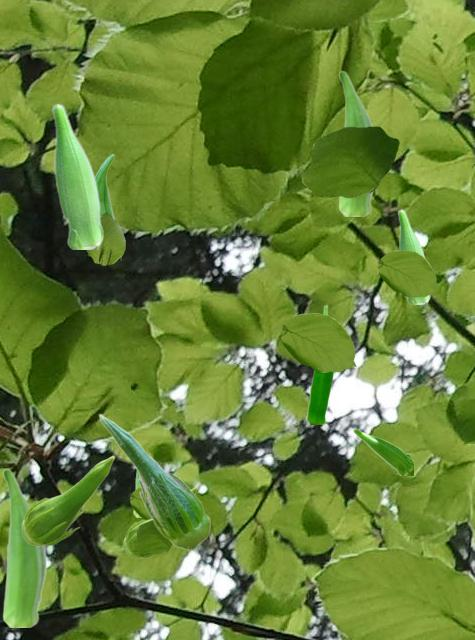okra: (98, 413, 210, 549), (21, 455, 114, 545), (51, 103, 102, 248), (2, 468, 46, 626), (123, 486, 197, 557), (338, 70, 374, 215), (306, 304, 334, 423), (397, 209, 429, 303), (95, 153, 122, 259), (353, 429, 412, 474), (133, 471, 139, 516)
